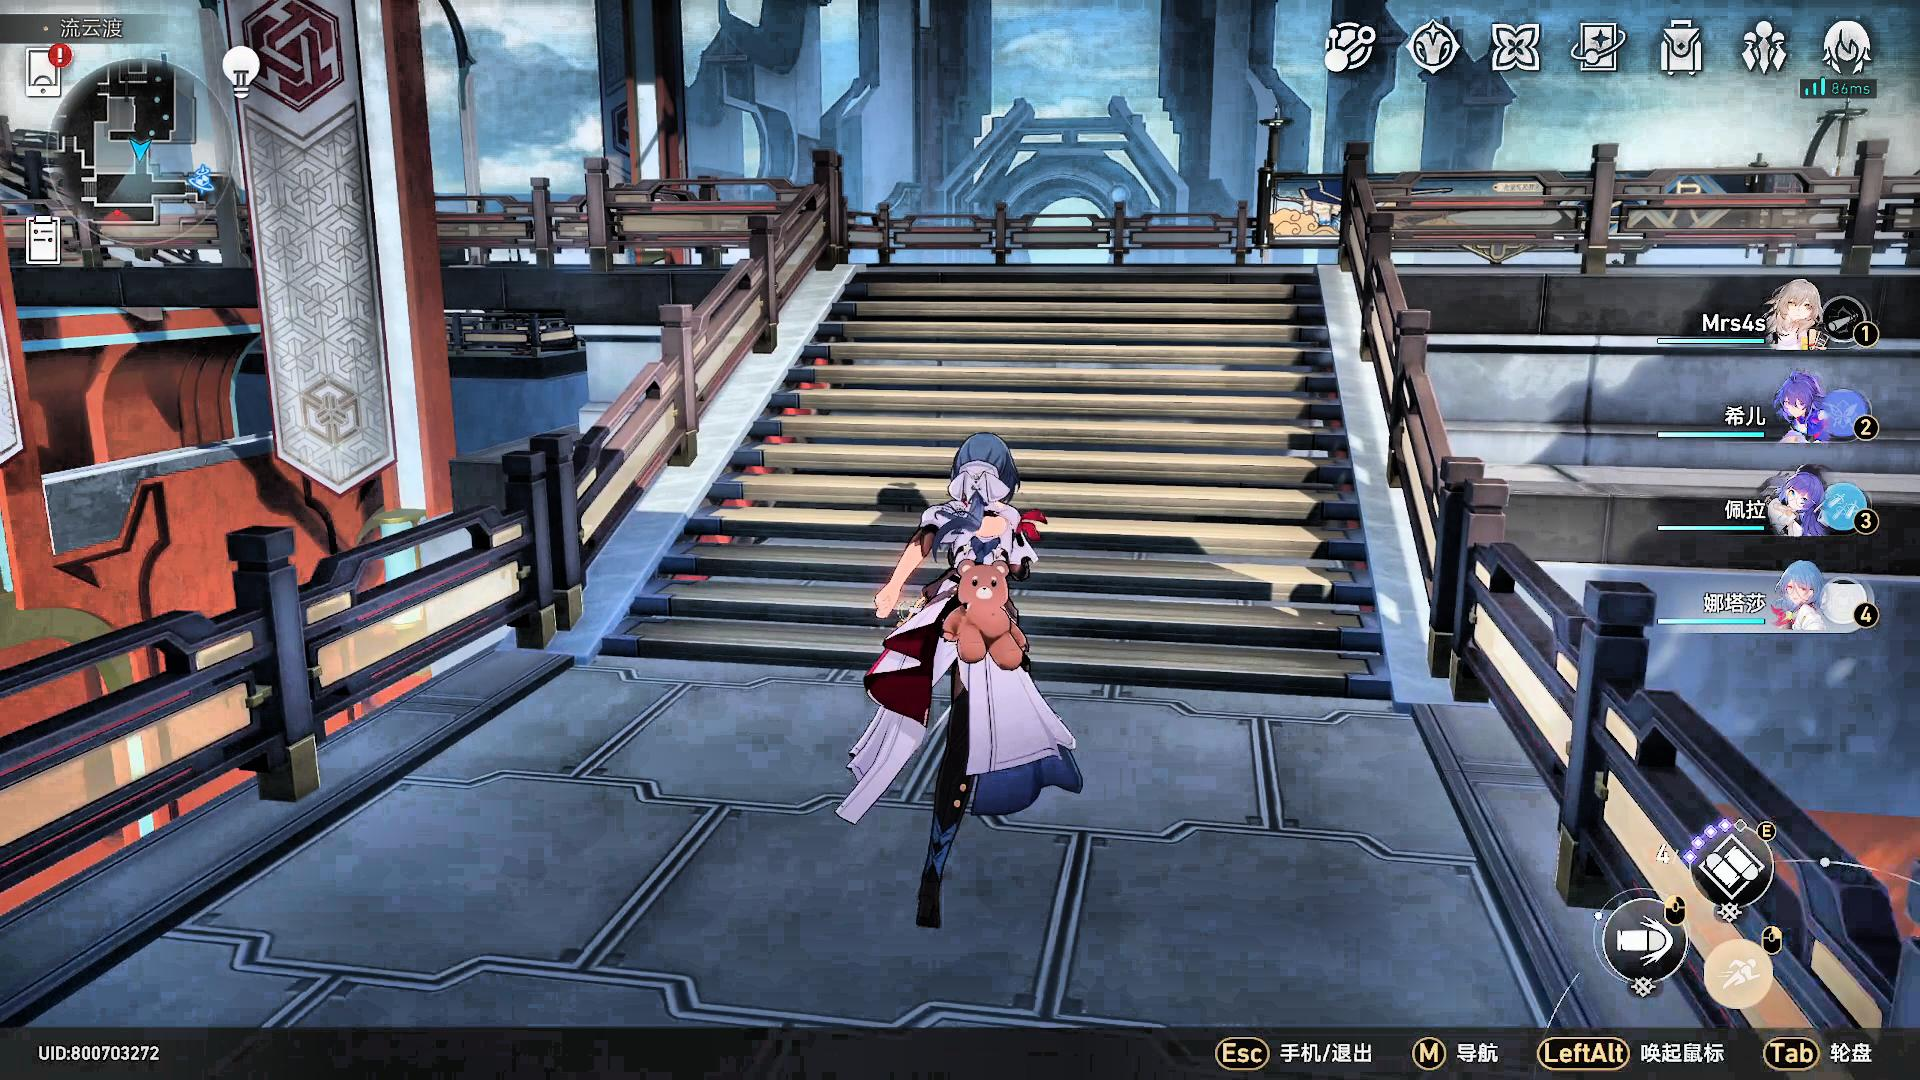Self: (841, 430, 1084, 938)
